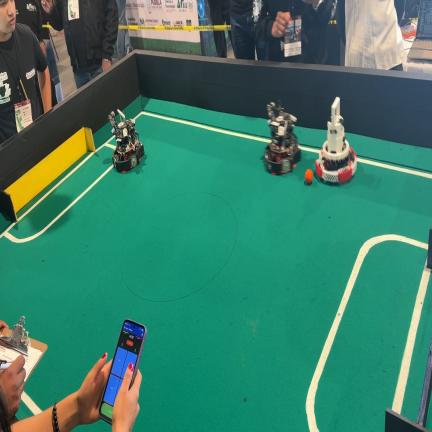cancha: (0, 97, 432, 432), (75, 421, 110, 432)
limites: (306, 234, 428, 432), (0, 152, 113, 243), (392, 264, 431, 414), (134, 111, 267, 143), (358, 158, 432, 179), (22, 392, 41, 414), (96, 137, 115, 150), (300, 145, 320, 153)
pelota: (304, 169, 314, 185)
porteria: (0, 128, 95, 222), (385, 338, 432, 432), (426, 228, 432, 270)
robot: (315, 97, 356, 183), (264, 102, 301, 174), (108, 109, 144, 172)
